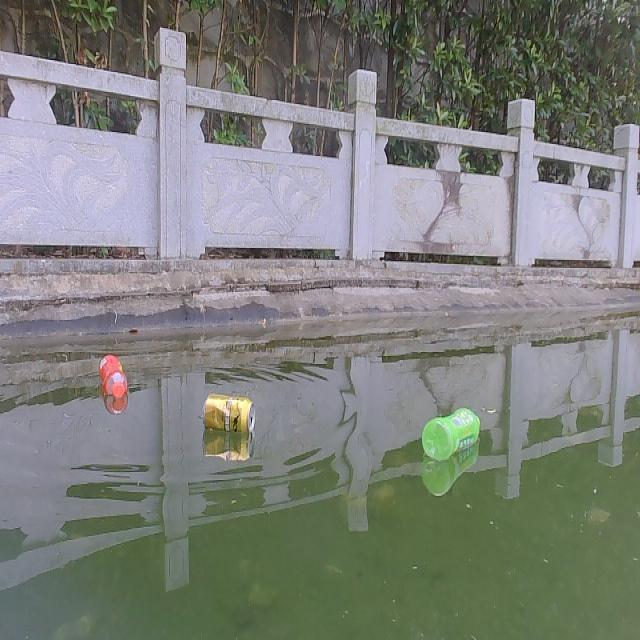Bottle: (418, 407, 486, 460), (98, 352, 128, 400)
Can: (200, 391, 257, 433)
